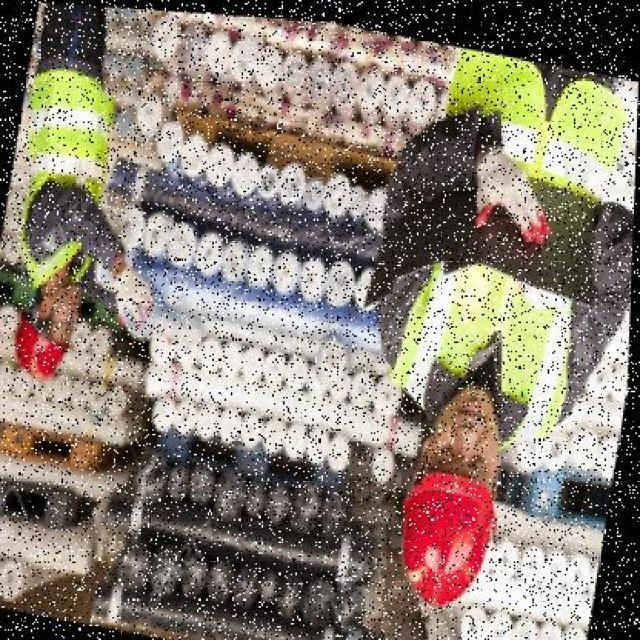helmet: (385, 448, 511, 612), (0, 297, 88, 387)
vest: (386, 34, 626, 426), (0, 60, 130, 283)
